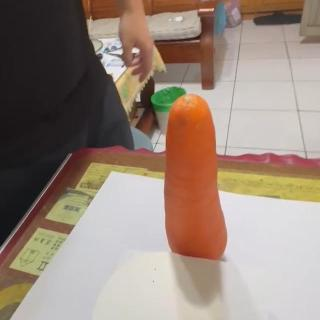carrot: (164, 94, 228, 260)
